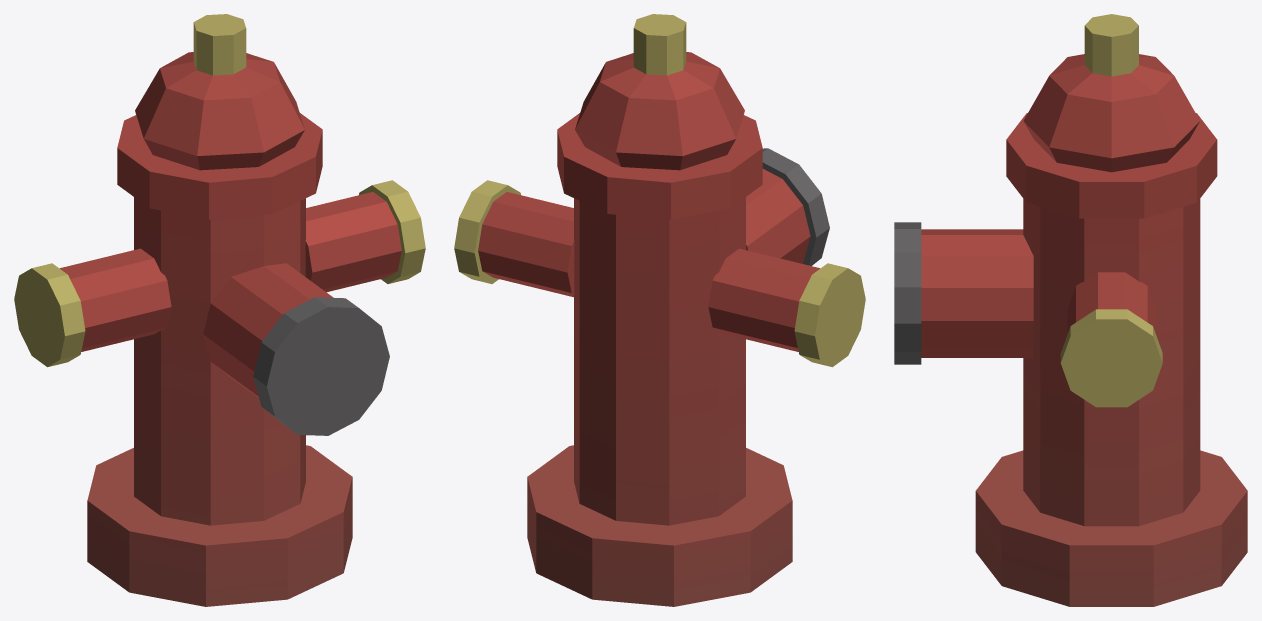
The model's file is hydrant.glb.
3 views of the same model, side by side, from view 1: azimuth 30°, elevation 25°; view 2: azimuth 150°, elevation 25°; view 3: azimuth 270°, elevation 25° (orthographic).
Parts seen in each view (by area): view 1: hydrant; view 2: hydrant; view 3: hydrant.
Part boxes in pixels (left/top/right/bottom): hydrant: left=14, top=14, right=425, bottom=606; hydrant: left=454, top=14, right=865, bottom=606; hydrant: left=894, top=14, right=1247, bottom=606.
Bounding box in the file's own units: 0.615 × 0.855 × 0.52.
